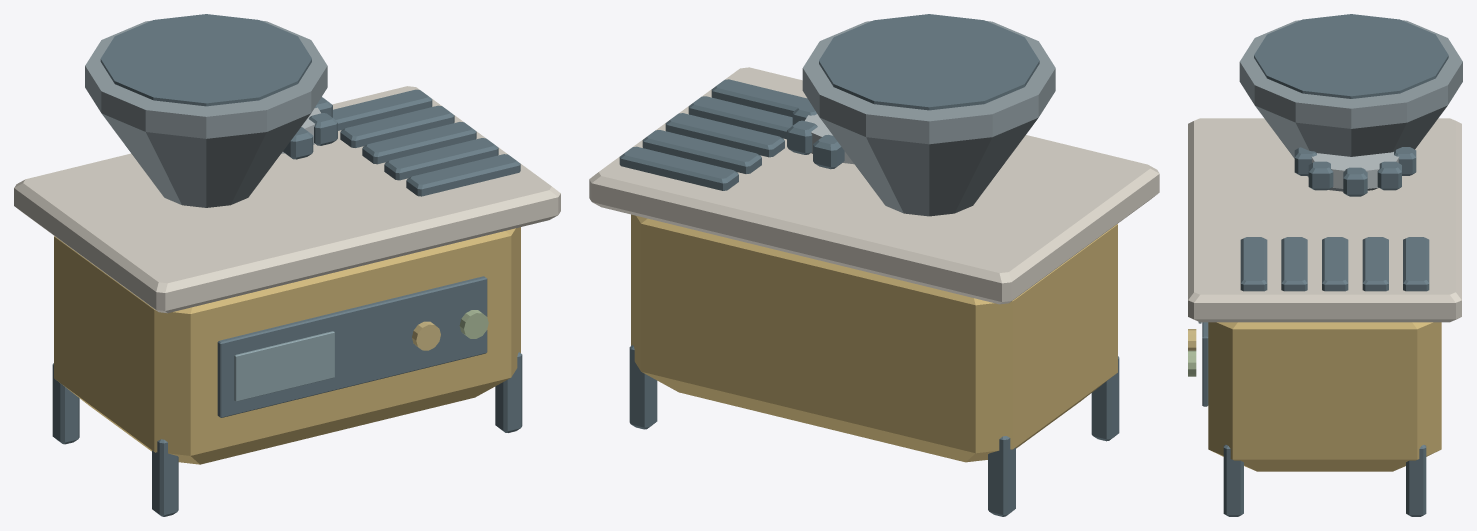
The model's file is recycler.glb.
3 renders of one model, left to right at view 1: azimuth 30°, elevation 25°; view 2: azimuth 150°, elevation 25°; view 3: azimuth 270°, elevation 25°, orthographic. The views are drawn at different scales.
Parts seen in each view (by area): view 1: recycler, Spinner; view 2: recycler, Spinner; view 3: recycler, Spinner.
Part boxes in pixels (<box>): recycler: <box>14,14,560,516</box>; Spinner: <box>281,97,337,159</box>; recycler: <box>589,14,1159,516</box>; Spinner: <box>787,103,853,169</box>; recycler: <box>1188,14,1462,516</box>; Spinner: <box>1294,147,1416,196</box>.
Size of the model in its own units: 2.12 by 1.91 by 1.36.
